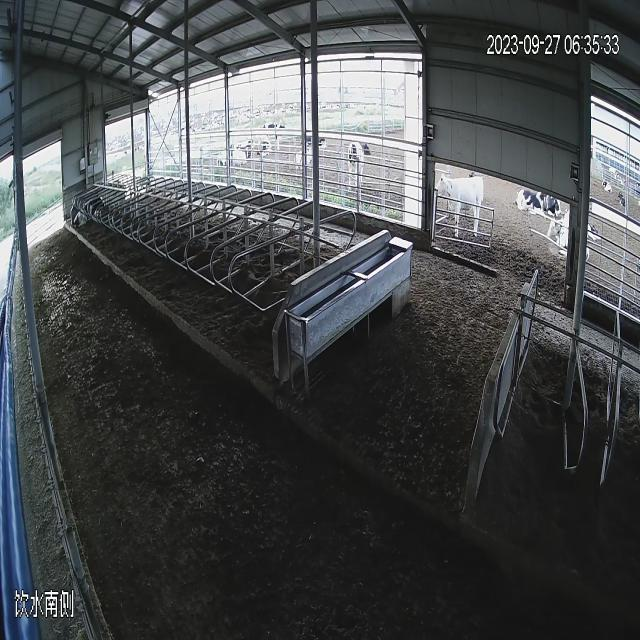lying down: (512, 167, 564, 220), (75, 186, 114, 250), (612, 177, 632, 224)
standing: (434, 162, 494, 245), (342, 129, 376, 212)
